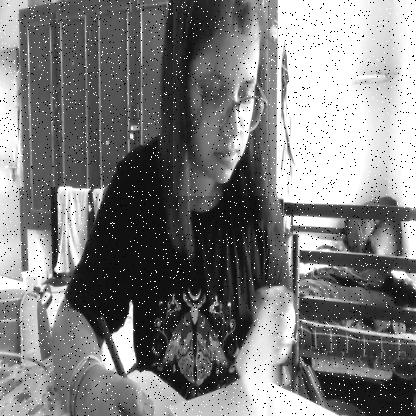Distracted: (173, 0, 268, 196)
